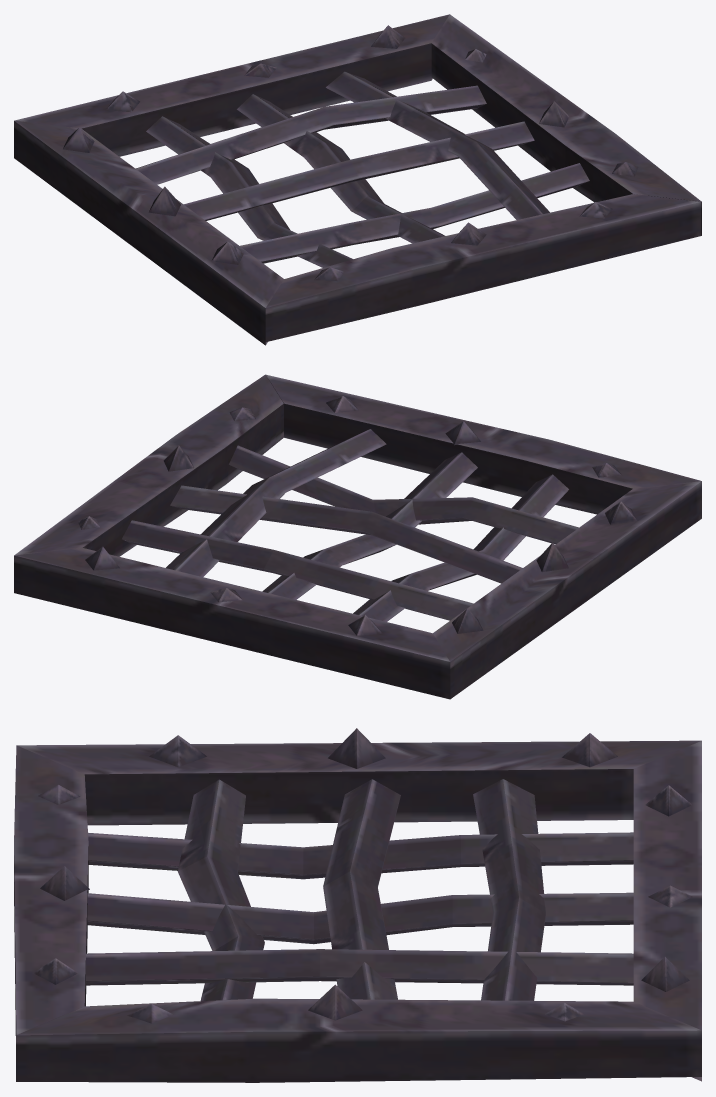
File: lava_floorgrate_02.fbx
3 views of the same model, one above another, from view 1: azimuth 30°, elevation 25°; view 2: azimuth 150°, elevation 25°; view 3: azimuth 270°, elevation 25° (orthographic). The views are drawn at different scales.
Parts seen in each view (by area): view 1: obj0.045; view 2: obj0.045; view 3: obj0.045.
Part boxes in pixels (left/top/right/bottom): obj0.045: left=14, top=14, right=701, bottom=345; obj0.045: left=14, top=374, right=701, bottom=699; obj0.045: left=14, top=728, right=701, bottom=1082.
Size of the model in its own units: 4.03 by 0.5889 by 4.02.
